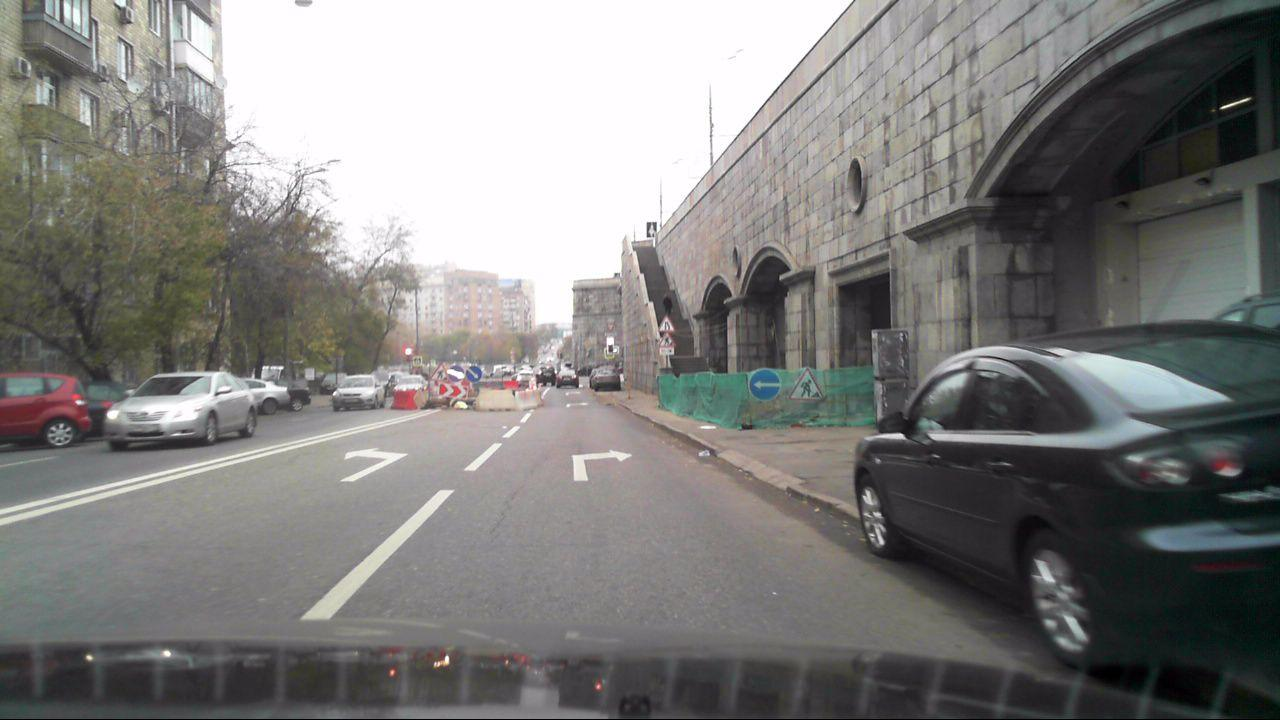1_20_2: (657, 314, 675, 332)
1_25: (791, 366, 824, 402), (429, 363, 450, 383), (659, 332, 676, 346)
1_34_1: (440, 381, 469, 399)
2_4: (606, 321, 616, 331)
4_2_1: (463, 362, 483, 381)
4_2_2: (749, 368, 782, 401)
8_1_3: (657, 347, 677, 357)
